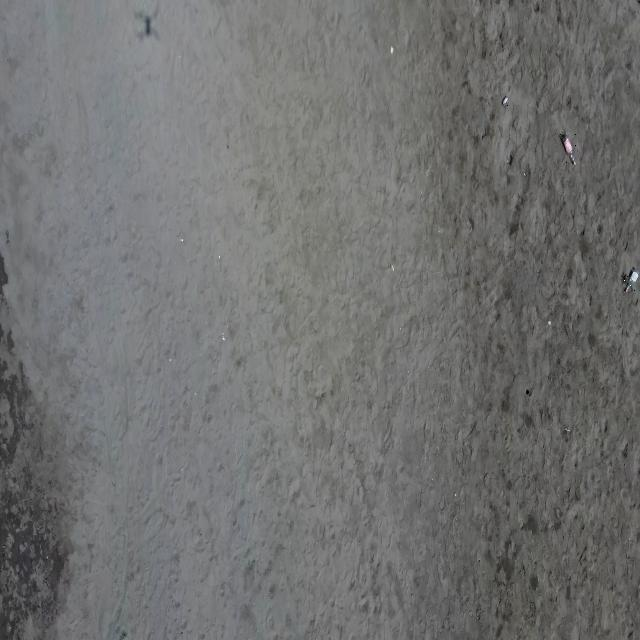glass: (560, 132, 576, 164), (624, 267, 640, 294), (502, 96, 509, 107)
